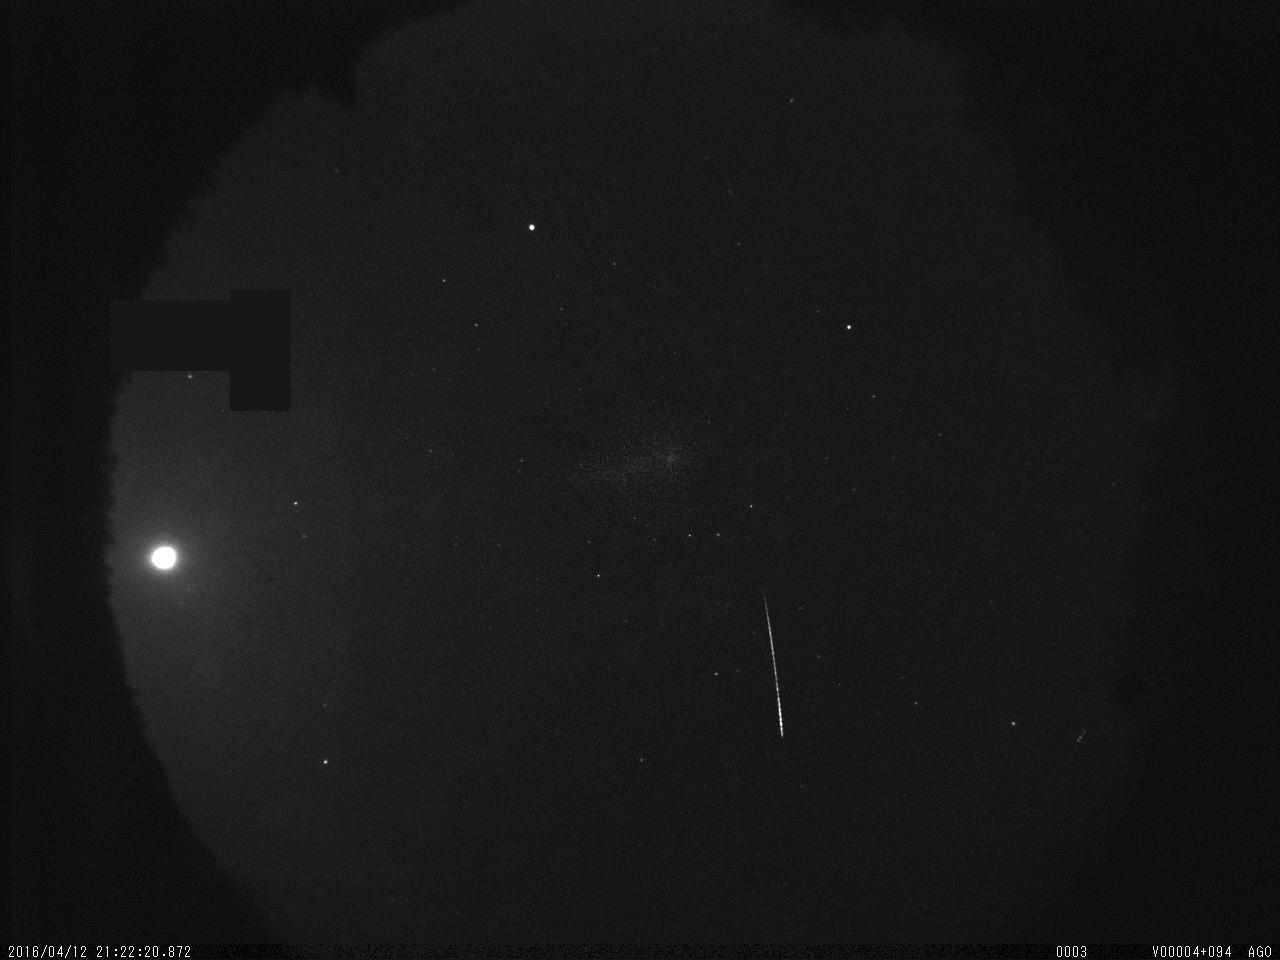meteor: (737, 582, 811, 751)
